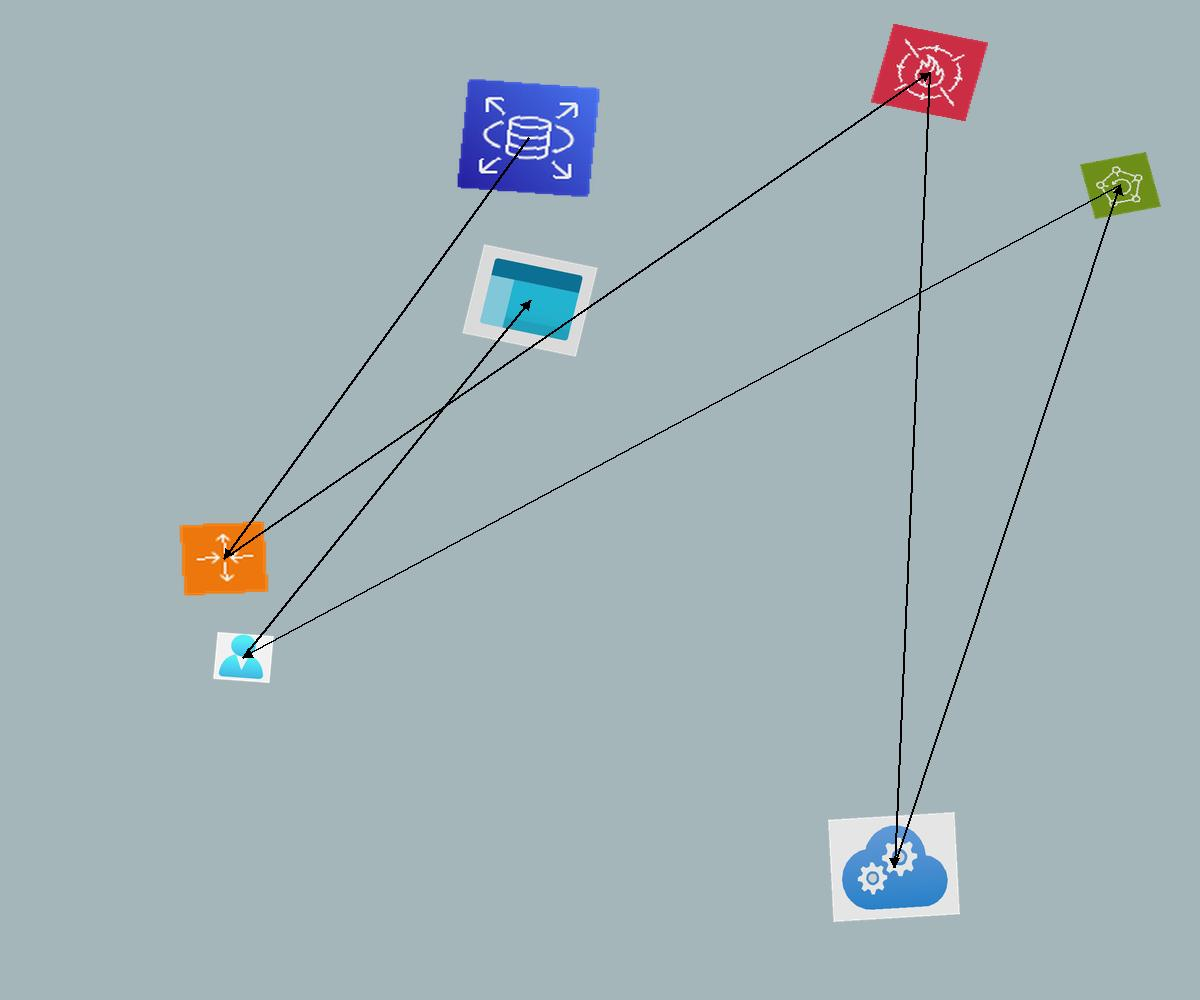AWS-Backup: (1080, 152, 1161, 219)
AWS-RDS: (456, 78, 601, 198)
AWS-Scaling-group: (178, 520, 270, 597)
AWS-WAF: (870, 23, 989, 122)
Azure_cloud_services: (828, 812, 960, 922)
Azure_management-portal: (462, 244, 598, 357)
Azure_users: (213, 632, 274, 683)
